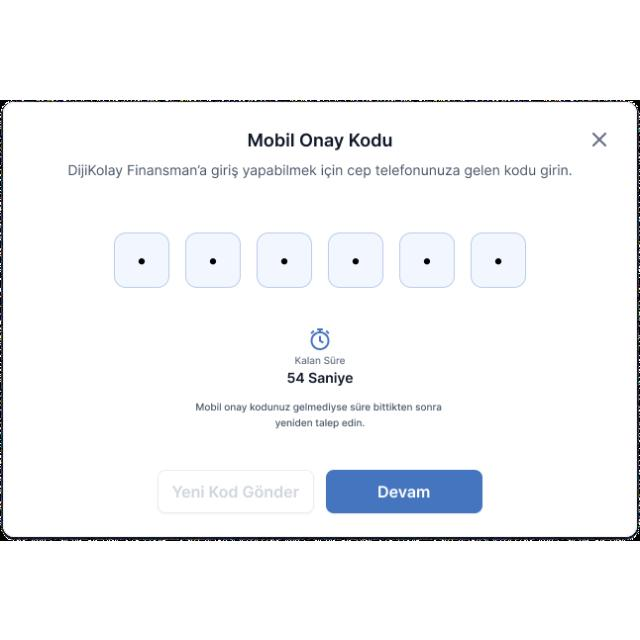QLabel: (64, 158, 576, 182), (195, 401, 442, 413), (240, 130, 390, 148), (168, 483, 302, 499), (285, 368, 357, 388), (273, 417, 363, 428), (376, 484, 432, 498), (292, 356, 346, 366)
QOtp: (106, 226, 530, 292)
VBtn: (158, 468, 316, 514), (326, 469, 484, 513)
VIcon: (306, 325, 332, 351), (590, 126, 610, 150)
